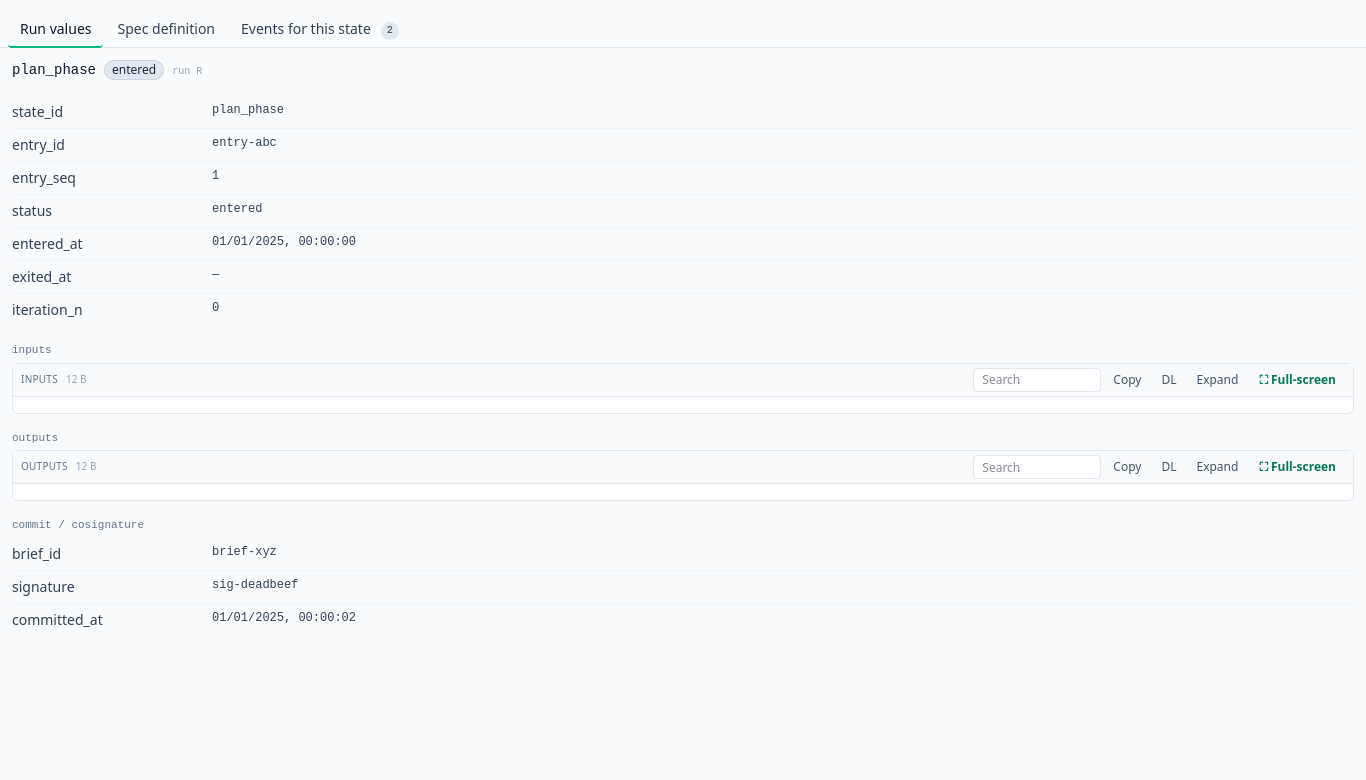
Test: StateEntrySheetBody › tab 3 filters the event list by entry_id
Click the tab "Events for this state 2" at (320, 30), box [229,12,411,48]
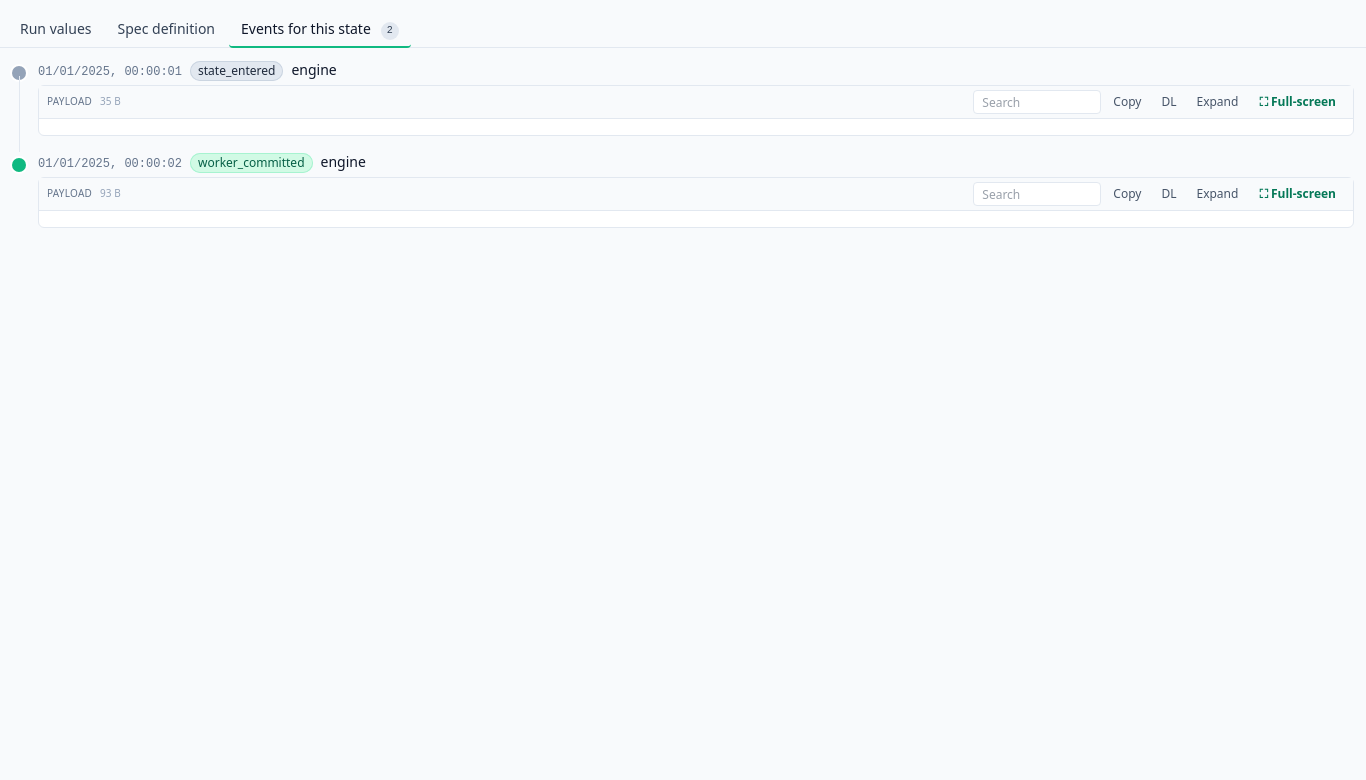
Now the element with test id "state-entry-events-panel" shows "state_entered", box [198,62,275,79]
Now the element with test id "state-entry-events-panel" shows "worker_committed", box [198,154,304,171]
